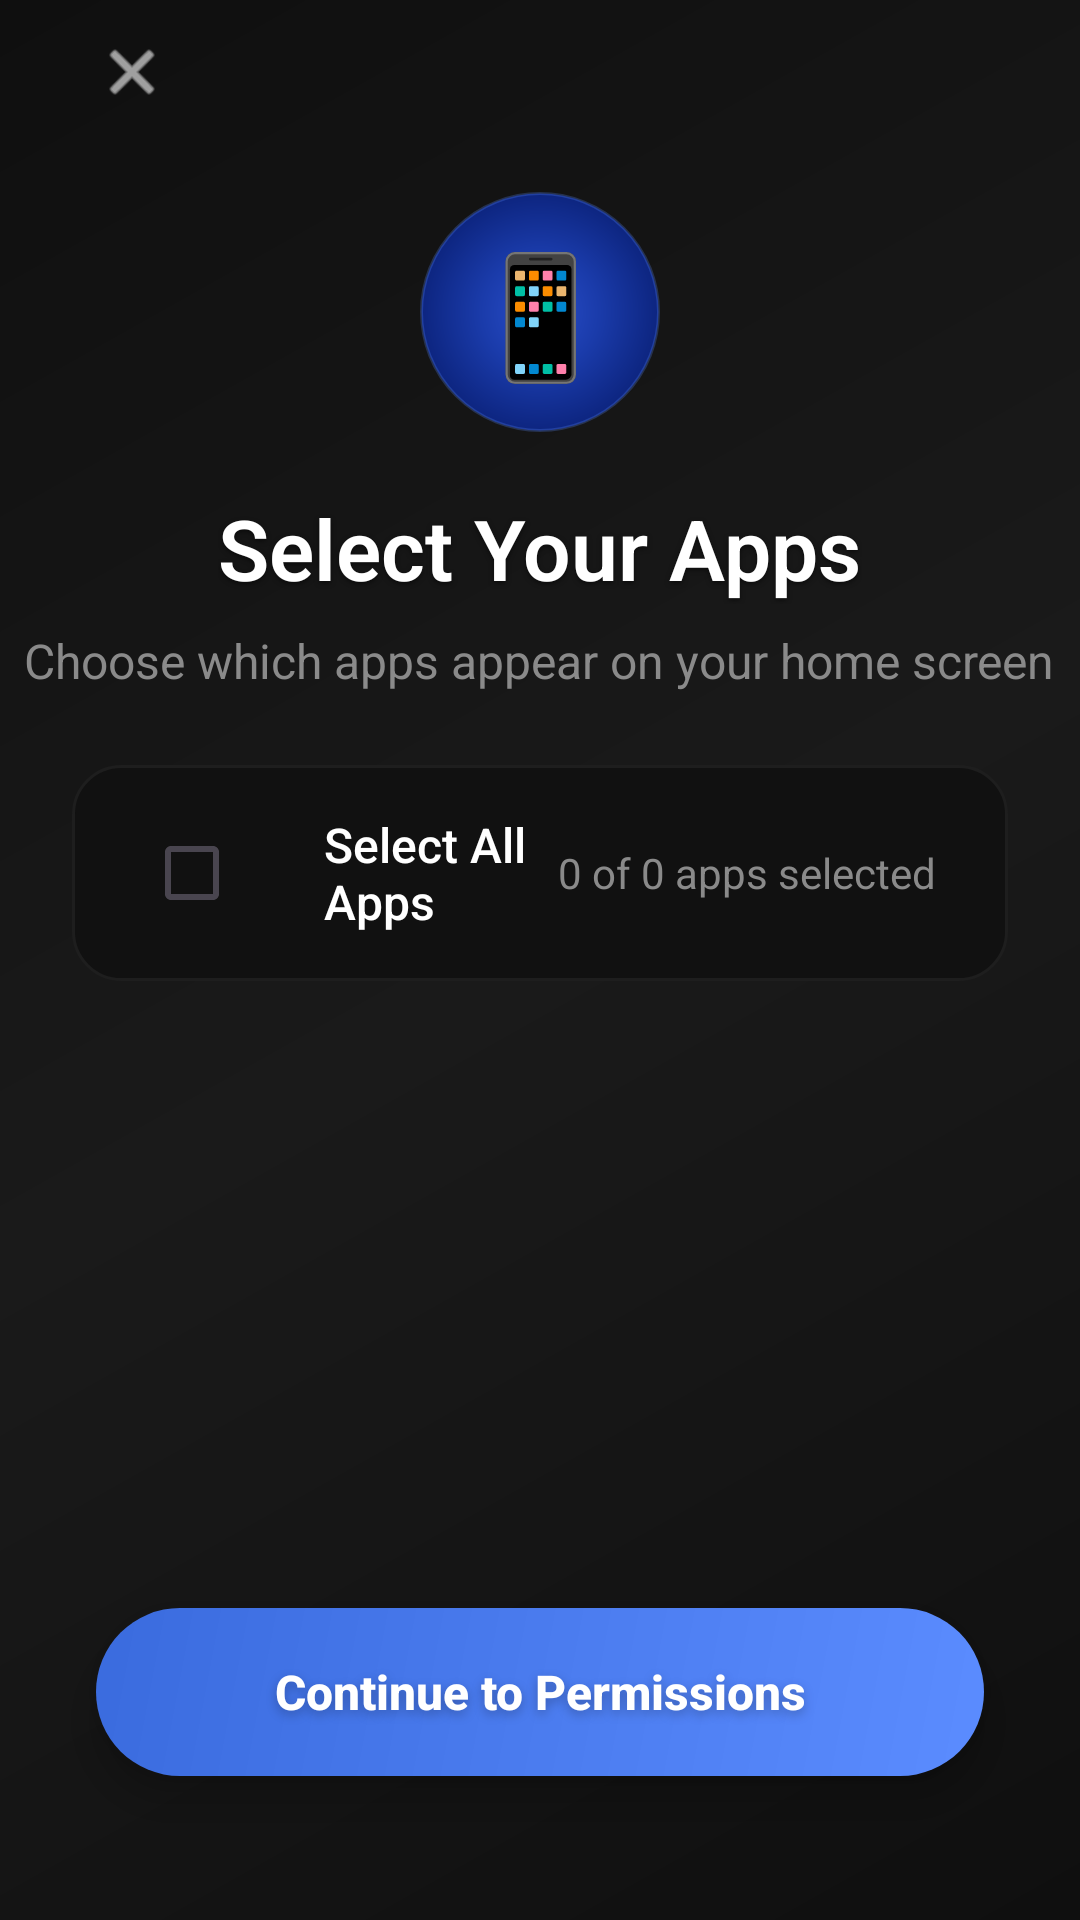

Icon click points for this 1080×1920 phone screenshot, format (x,y):
close clear cancel: (132,72)
